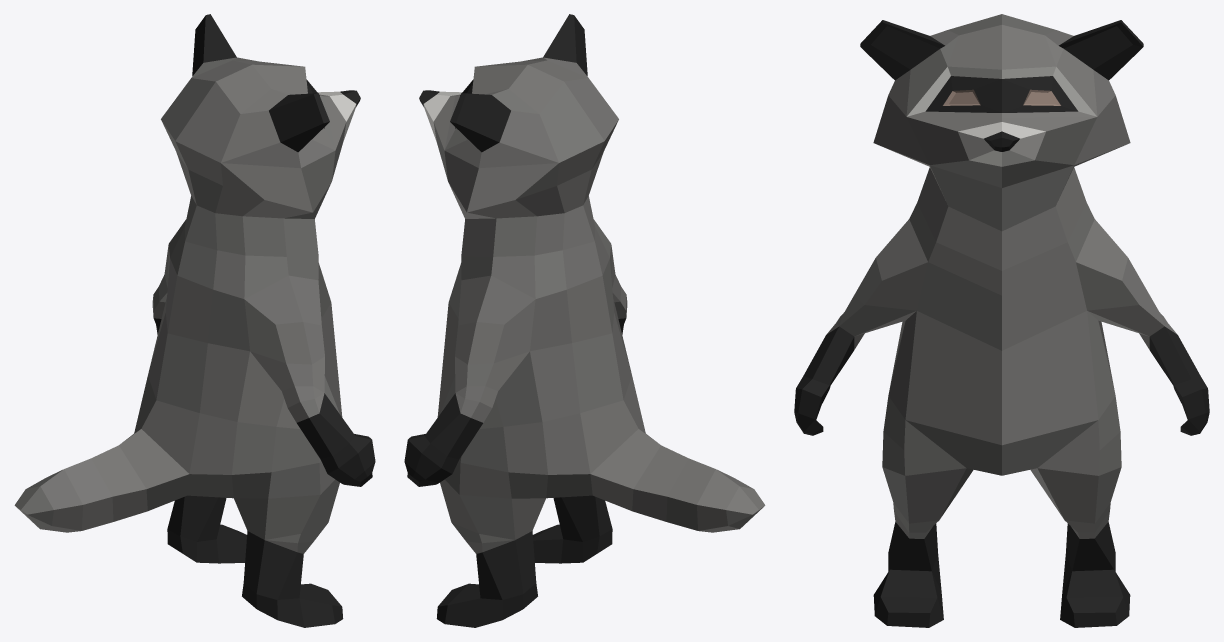
File: Mapache.obj
The picture shows the model from 3 angles, left to right: view 1: azimuth 30°, elevation 25°; view 2: azimuth 150°, elevation 25°; view 3: azimuth 270°, elevation 25°; orthographic projection. The views are drawn at different scales.
Visible parts, largest first — view 1: polySurface31; view 2: polySurface31; view 3: polySurface31.
Boxes of the visible parts, x1=… form: polySurface31: x1=14, y1=14, x2=375, y2=627; polySurface31: x1=404, y1=14, x2=765, y2=627; polySurface31: x1=794, y1=14, x2=1209, y2=627.
Size of the model in its own units: 1.45 by 2.2 by 1.41.
6 materials, 6 textured.
